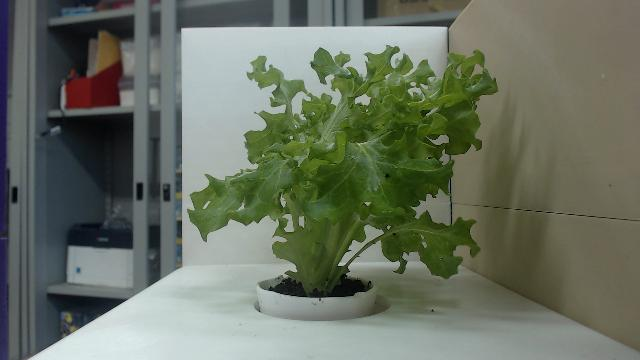Harvest Stage: (186, 43, 499, 296)
